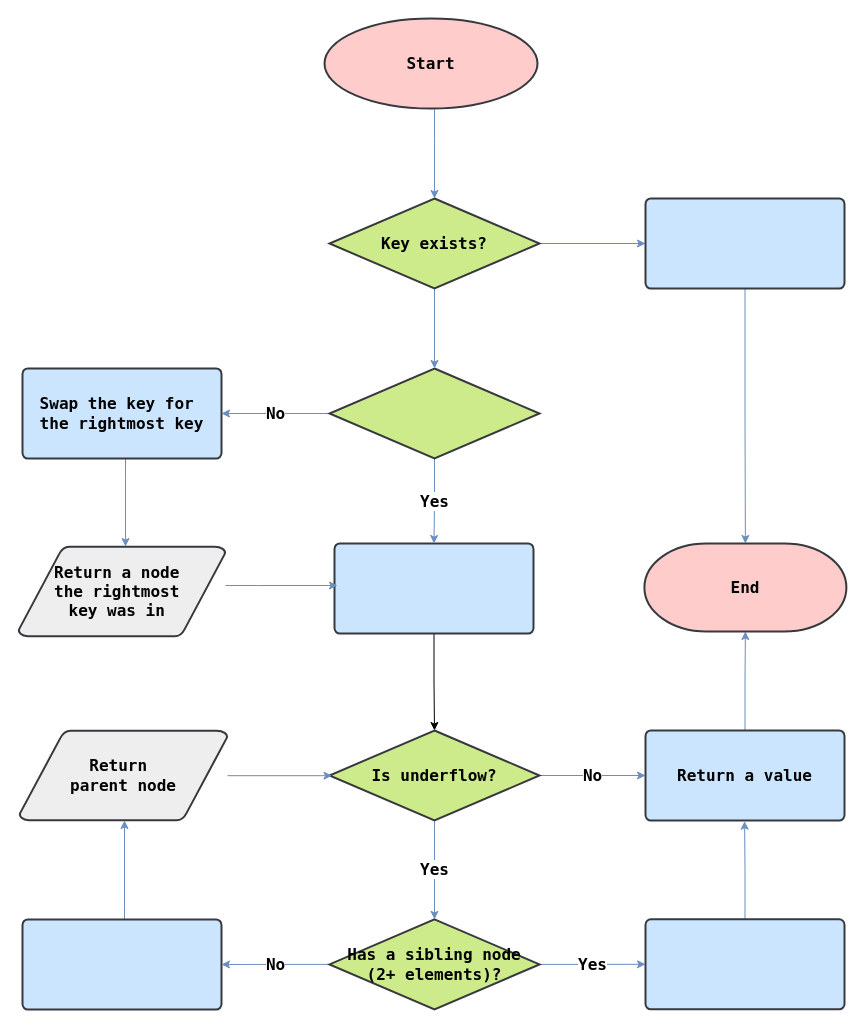
This 864x1027 diagram has some shape labels left out. The centre of each missing label's shape, as x and y in pixels:
"Delete a key" belongs at point (433, 588).
"Fusion" belongs at point (121, 964).
"Is a leaf node?" belongs at point (434, 413).
"Return null" belongs at point (744, 243).
"Transfer" belongs at point (744, 964).
